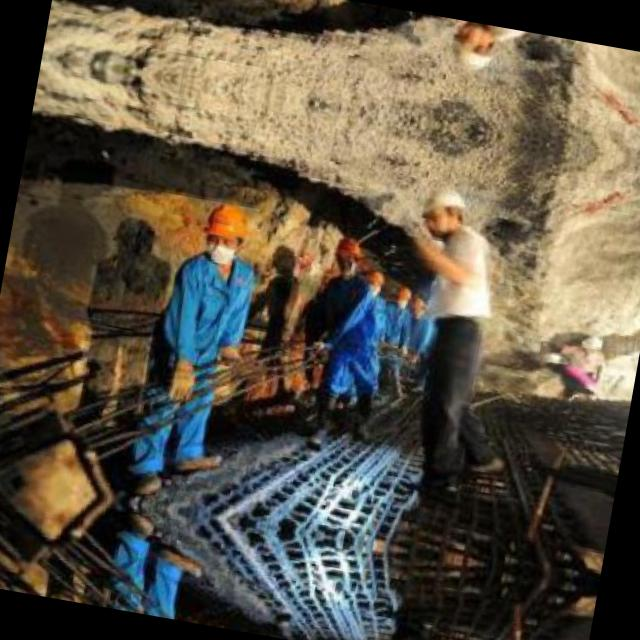helmet: (415, 177, 470, 240), (199, 196, 252, 260), (444, 18, 499, 78), (330, 231, 368, 279), (362, 264, 386, 292), (392, 277, 412, 307)
